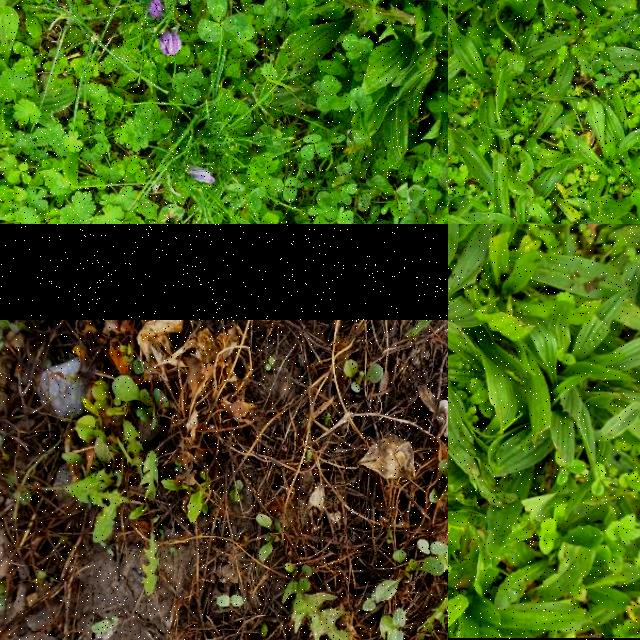flower: (158, 30, 182, 56), (188, 167, 216, 185)
